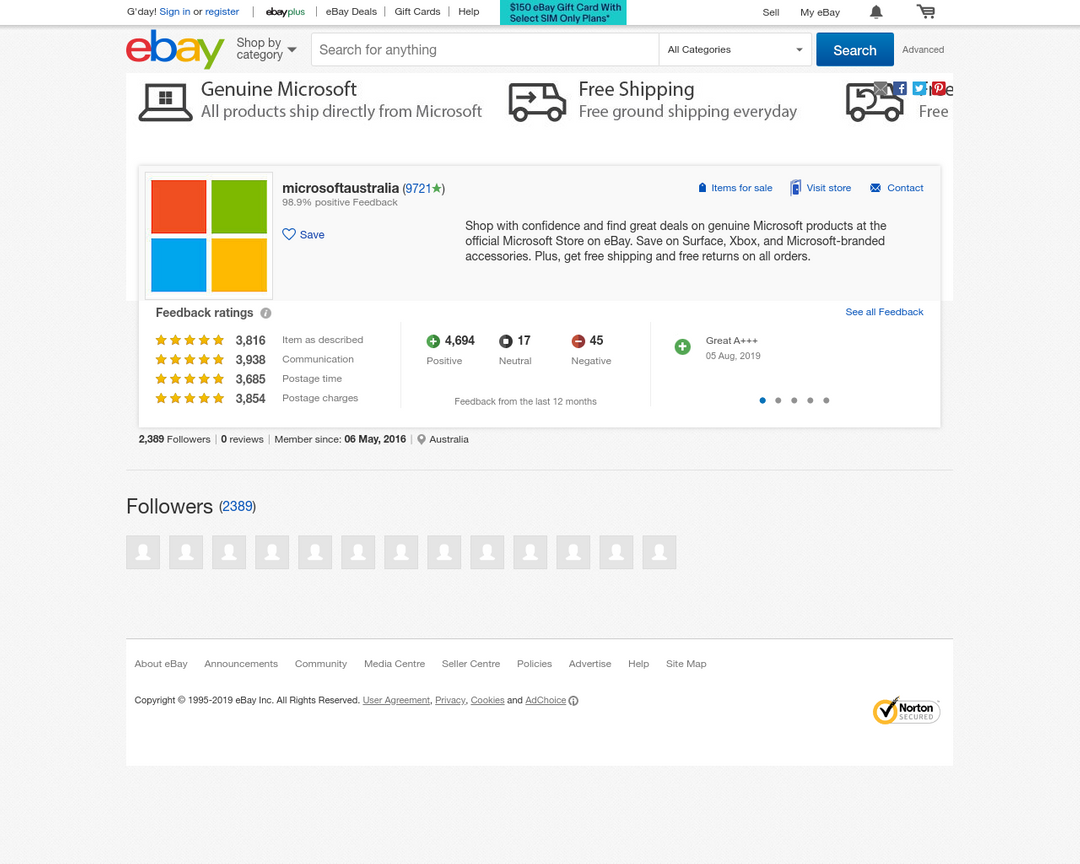Ebay: (122, 25, 231, 74)
Microsoft: (146, 176, 272, 297)
